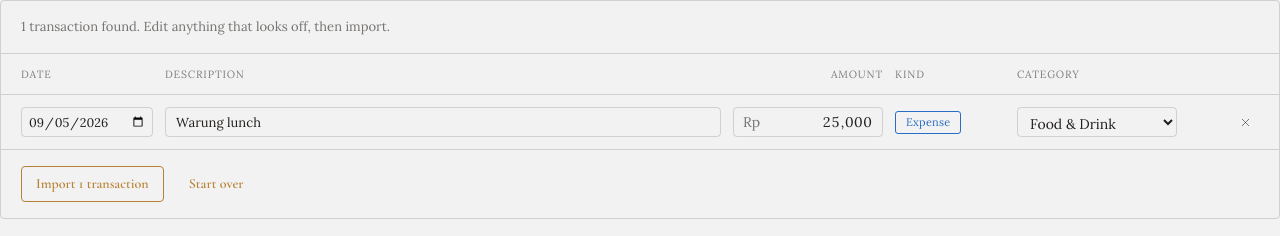
Test case: ImportReview row removal › disables import once every row is removed
The width and height of the screenshot is (1280, 236).
What coordinates should you click on to do the following:
click the button named "Remove row"
I would click on:
 (1245, 122)
Its box is [1231, 108, 1259, 136].
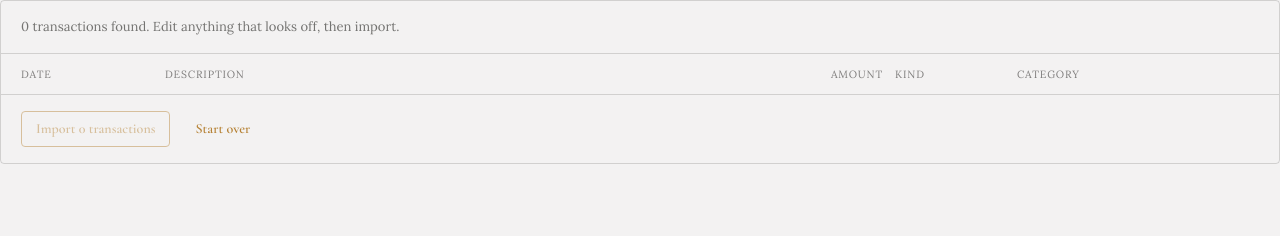
Expected: the button "Import 0 transactions" is disabled, [21, 111, 170, 147]
